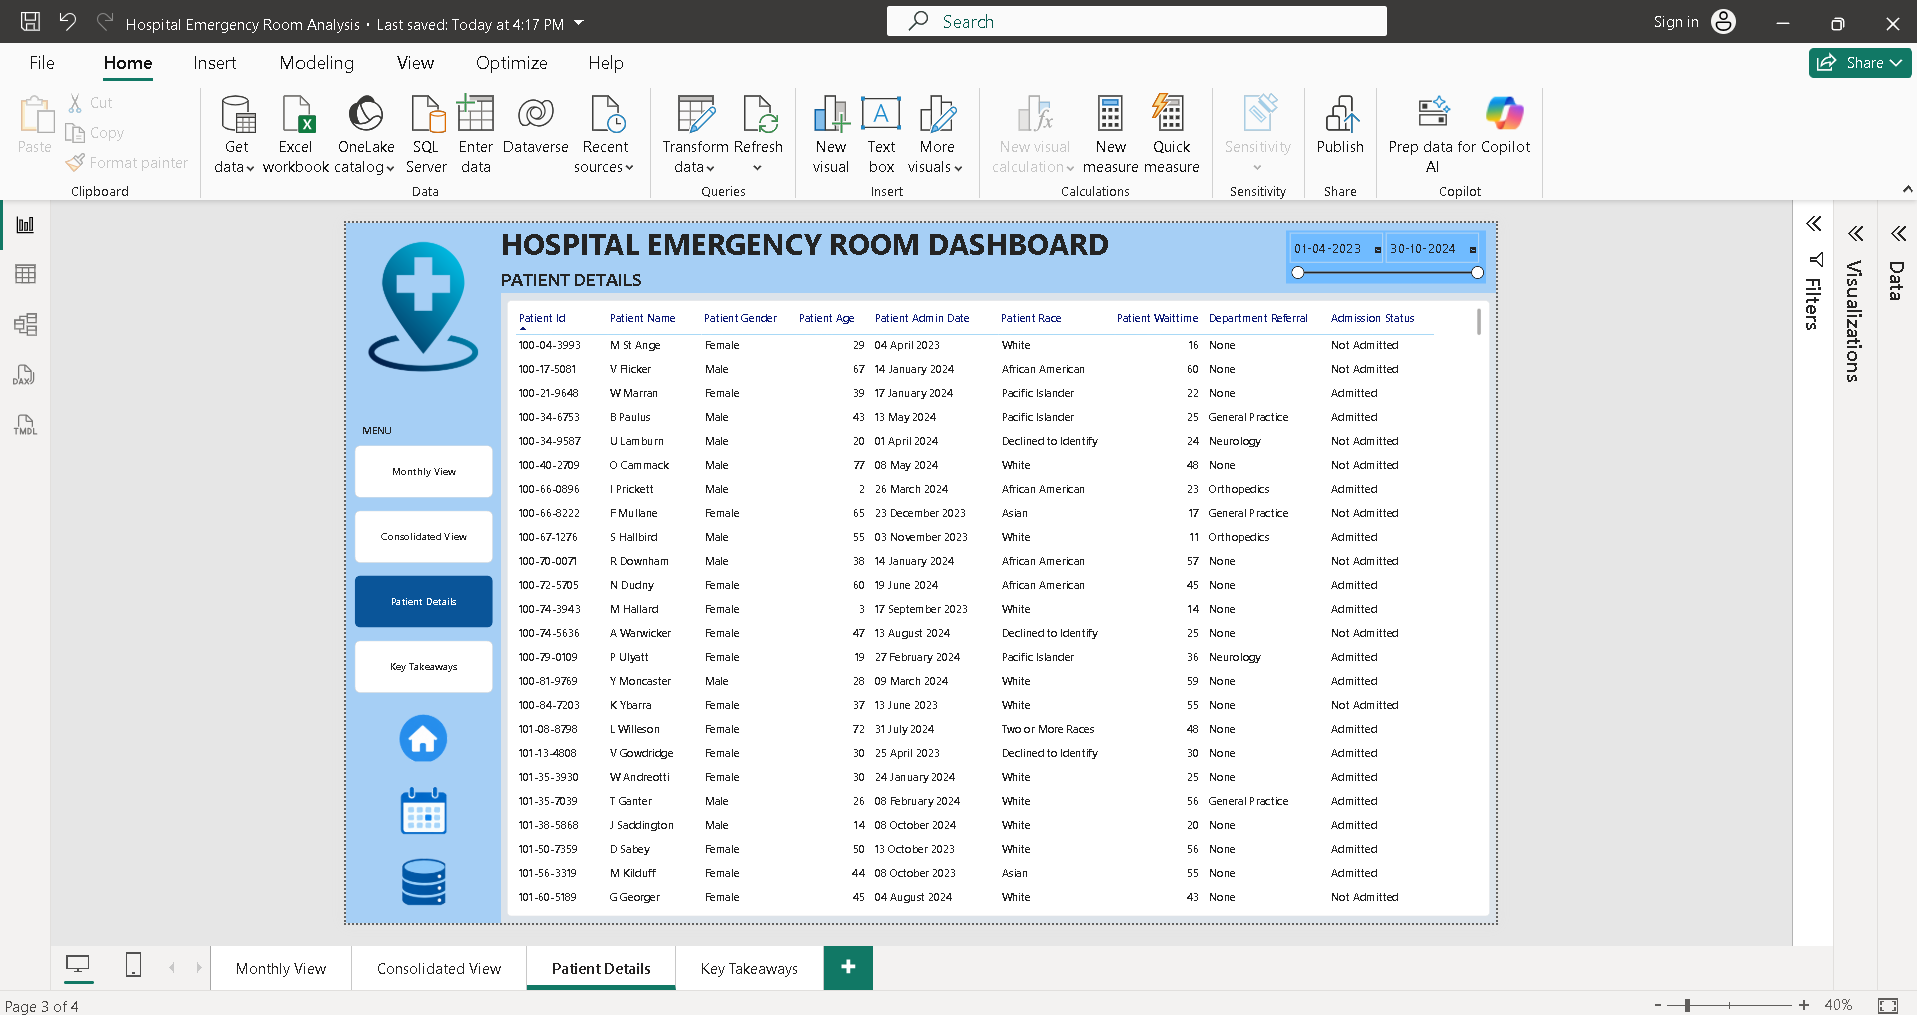

What the dashboard file says about the page in this screenshot:
{"tool":"powerbi","page":{"name":"Patient Details","canvas":[2300,1400],"ordinal":2},"visuals":[{"type":"shape","box":[0,0,310,1400],"z":0},{"type":"shape","box":[310,0,1990,140],"z":1000},{"type":"textbox","box":[310,0,1247.5,90],"z":2000},{"type":"textbox","box":[310,90,422.5,50],"z":3000},{"type":"slicer","fields":{"Values":["Date Table.Date"]},"box":[1881.1,15.6,398.9,104.4],"z":4000},{"type":"image","box":[17.5,37.5,275,260],"z":5000},{"type":"tableEx","fields":{"Values":["Hospital ER_Data.Patient Id","Hospital ER_Data.Patient Full Name","Hospital ER_Data.Patient Gender","Sum(Hospital ER_Data.Patient Age)","Hospital ER_Data.Patient Admin Date","Hospital ER_Data.Patient Race","Sum(Hospital ER_Data.Patient Waittime)","Hospital ER_Data.Department Referral","Hospital ER_Data.Admission Status"]},"box":[321.4,155.7,1965,1231.4],"z":6000},{"type":"pageNavigator","box":[18,444,276,496],"z":7000},{"type":"textbox","box":[33.3,402.2,85.6,33.3],"z":8000},{"type":"image","box":[90,967.5,130,125],"z":8005},{"type":"image","box":[90,1112.5,130,125],"z":8006},{"type":"image","box":[90,1255,130,125],"z":8007}]}

Visuals, with their boxes on the page's 2300x1400 design canvas (x1, y1, x2, y2). These are canvas units, not pixel positions in the 1917x1015 screenshot, which may show the page scaled, cropped or inside an application window:
shape: crop(0, 0, 310, 1400)
shape: crop(310, 0, 2300, 140)
textbox: crop(310, 0, 1558, 90)
textbox: crop(310, 90, 732, 140)
slicer - Date Table.Date: crop(1881, 16, 2280, 120)
image: crop(18, 38, 292, 298)
tableEx - Hospital ER_Data.Patient Id x Hospital ER_Data.Patient Full Name: crop(321, 156, 2286, 1387)
pageNavigator: crop(18, 444, 294, 940)
textbox: crop(33, 402, 119, 436)
image: crop(90, 968, 220, 1092)
image: crop(90, 1112, 220, 1238)
image: crop(90, 1255, 220, 1380)
